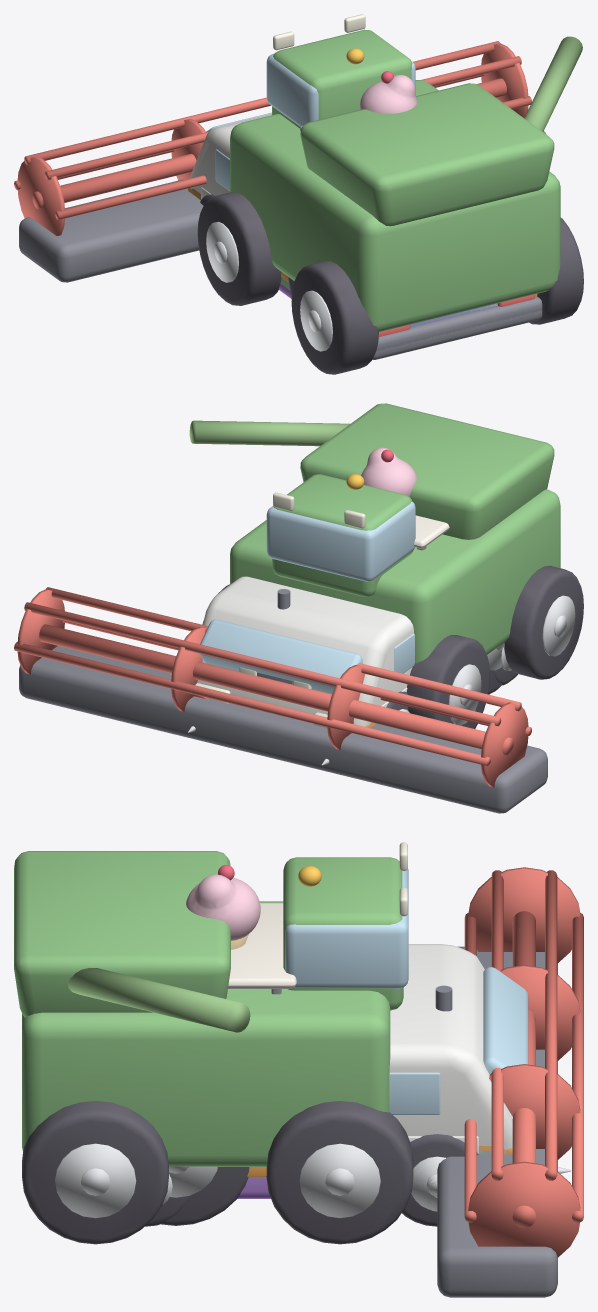
File: Vehicles.glb
3 renders of one model, top to bottom at view 1: azimuth 30°, elevation 25°; view 2: azimuth 150°, elevation 25°; view 3: azimuth 270°, elevation 25°, orthographic. The views are drawn at different scales.
Visible parts, largest first — view 1: Harvester__Body, Harvester__Reel, Harvester__Tire, Harvester__Trim, Harvester__Rim, Sedan__Trim, Harvester__Glass, Harvester__Pipe, Van__Body, IceCreamVan__Scoop, SportsCar__Trim, Harvester__Light (+1 smaller); view 2: Harvester__Body, Harvester__Reel, Harvester__Trim, Van__Body, Harvester__Tire, Harvester__Glass, Van__Glass, Harvester__Pipe, Harvester__Rim, IceCreamVan__Scoop, Tractor__Roof, Harvester__Light; view 3: Harvester__Body, Harvester__Reel, Harvester__Tire, Van__Body, Harvester__Trim, Harvester__Rim, Harvester__Glass, Van__Glass, Harvester__Pipe, Tractor__Roof, IceCreamVan__Scoop, Tractor__Tire (+3 smaller).
Part boxes in pixels (left/top/right/bottom): Harvester__Body: left=230, top=29, right=560, bottom=332; Harvester__Reel: left=14, top=41, right=531, bottom=235; Harvester__Tire: left=197, top=192, right=583, bottom=374; Harvester__Trim: left=19, top=131, right=546, bottom=282; Harvester__Rim: left=206, top=221, right=332, bottom=351; Sedan__Trim: left=376, top=296, right=542, bottom=351; Harvester__Glass: left=266, top=53, right=415, bottom=126; Harvester__Pipe: left=524, top=36, right=582, bottom=131; Van__Body: left=189, top=114, right=497, bottom=314; IceCreamVan__Scoop: left=359, top=75, right=417, bottom=113; SportsCar__Trim: left=372, top=310, right=542, bottom=359; Harvester__Light: left=273, top=14, right=365, bottom=50; Harvester__Body: left=230, top=403, right=560, bottom=663; Harvester__Reel: left=14, top=587, right=531, bottom=787; Harvester__Trim: left=19, top=646, right=547, bottom=813; Van__Body: left=197, top=576, right=413, bottom=726; Harvester__Tire: left=202, top=565, right=583, bottom=728; Harvester__Glass: left=266, top=501, right=415, bottom=581; Van__Glass: left=200, top=619, right=414, bottom=693; Harvester__Pipe: left=189, top=420, right=350, bottom=446; Harvester__Rim: left=448, top=595, right=575, bottom=725; IceCreamVan__Scoop: left=361, top=447, right=417, bottom=496; Tractor__Roof: left=414, top=515, right=449, bottom=548; Harvester__Light: left=273, top=492, right=365, bottom=528; Harvester__Body: left=14, top=851, right=403, bottom=1166; Harvester__Reel: left=464, top=867, right=583, bottom=1257; Harvester__Tire: left=22, top=1101, right=413, bottom=1244; Van__Body: left=389, top=944, right=512, bottom=1154; Harvester__Trim: left=437, top=946, right=557, bottom=1297; Harvester__Rim: left=55, top=1143, right=380, bottom=1218; Harvester__Glass: left=285, top=868, right=408, bottom=988; Van__Glass: left=389, top=967, right=528, bottom=1114; Harvester__Pipe: left=68, top=967, right=250, bottom=1032; Tractor__Roof: left=228, top=903, right=296, bottom=988; IceCreamVan__Scoop: left=186, top=874, right=260, bottom=940; Tractor__Tire: left=161, top=1167, right=249, bottom=1225.
Size of the model in its own units: 22 by 10.05 by 17.02.
